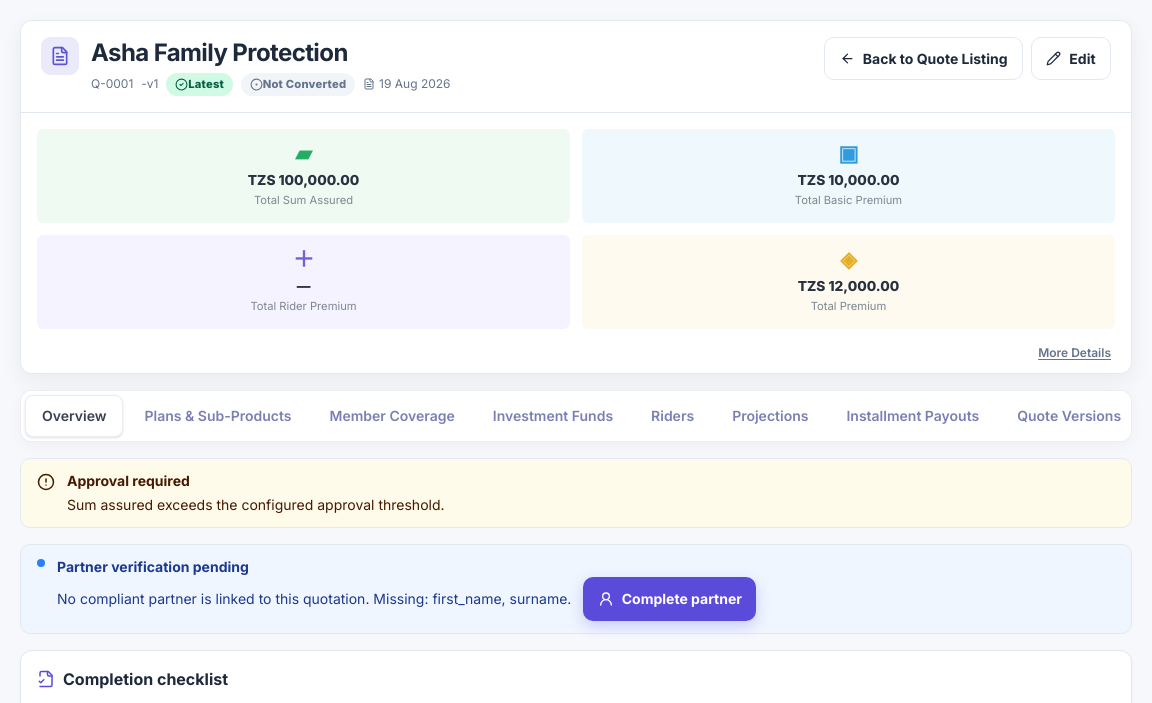
Scenario: OL quotation detail lifecycle › renders the versions tab and version list
Expected: the text "Q-0001" is shown, [91,76,133,92]
Click the button "Quote Versions". click: coordinates (1069, 416)
box: [1000,395,1138,437]
(page scrolled)
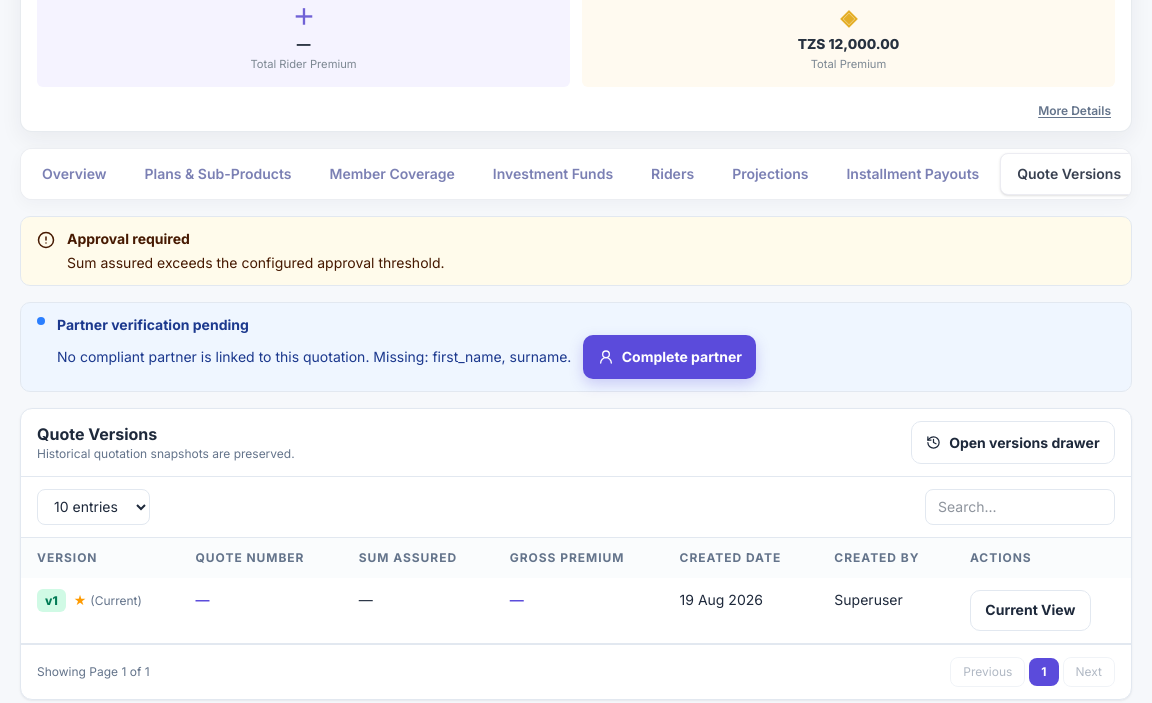
Expected: the button "Current View" is shown, [970,590,1091,631]
Result: the text "Historical quotation snapshots are preserved." is shown at [37,446,295,462]
